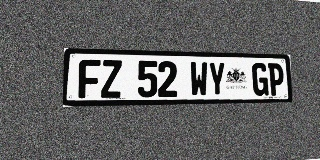2: (158, 61, 177, 97)
5: (138, 61, 157, 97)
F: (78, 59, 100, 98)
G: (252, 63, 269, 96)
P: (268, 63, 284, 96)
W: (190, 62, 208, 97)
Y: (208, 62, 226, 96)
Z: (101, 60, 122, 98)
